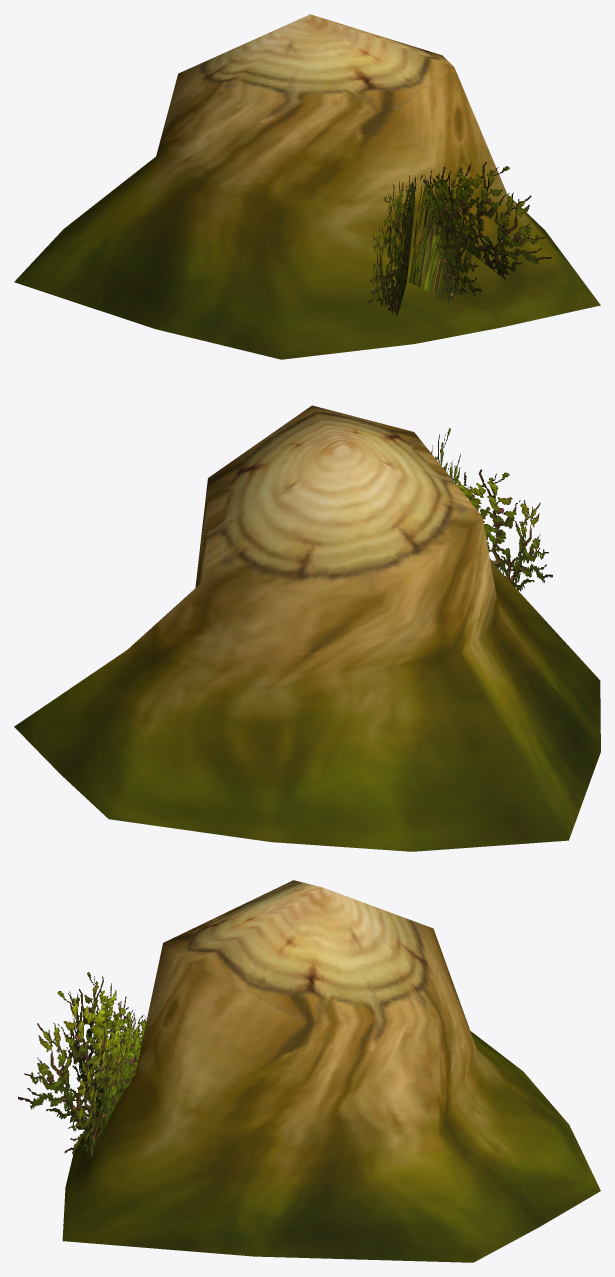
File: elwynntreestump02.obj
3 renders of one model, top to bottom at view 1: azimuth 30°, elevation 25°; view 2: azimuth 150°, elevation 25°; view 3: azimuth 270°, elevation 25°, orthographic. The views are drawn at different scales.
Visible parts, largest first — view 1: Geoset0, Geoset1; view 2: Geoset0, Geoset1; view 3: Geoset0, Geoset1.
Boxes of the visible parts, <box> form: Geoset0: <box>14,14,600,359</box>; Geoset1: <box>367,161,551,316</box>; Geoset0: <box>14,405,600,851</box>; Geoset1: <box>431,428,552,591</box>; Geoset0: <box>62,880,600,1262</box>; Geoset1: <box>18,972,146,1158</box>.
Size of the model in its own units: 4.7 by 2.41 by 4.82.
2 materials, 2 textured.
